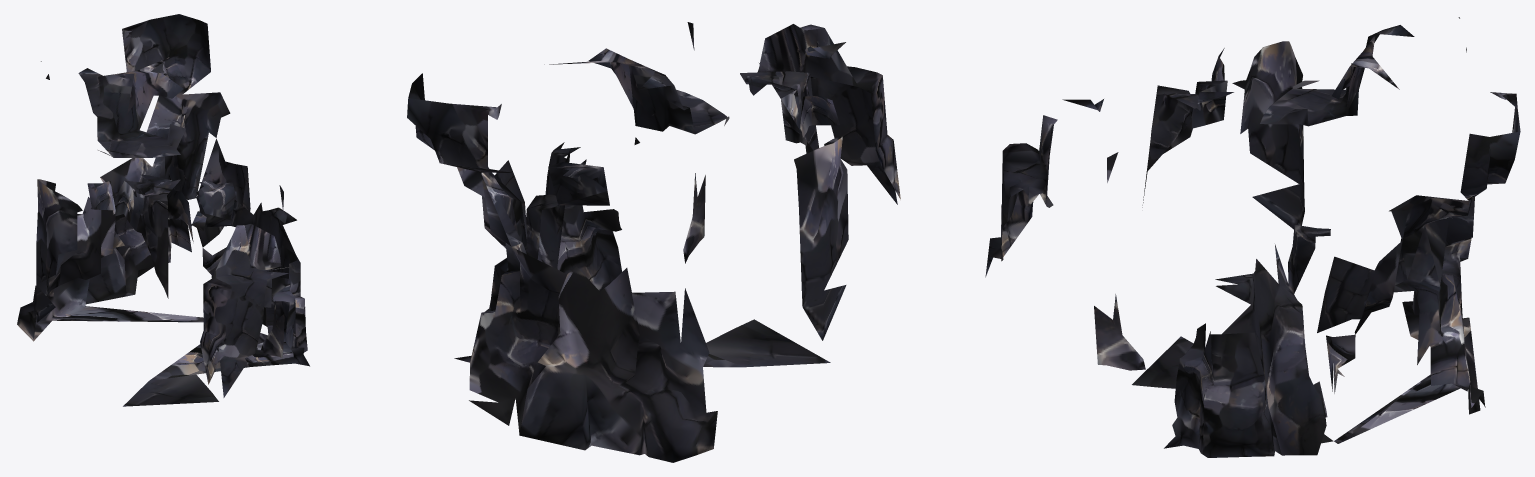
File: RIP0 (3).obj
3 renders of one model, left to right at view 1: azimuth 30°, elevation 25°; view 2: azimuth 150°, elevation 25°; view 3: azimuth 270°, elevation 25°, orthographic. The views are drawn at different scales.
Parts seen in each view (by area): view 1: RIP0; view 2: RIP0; view 3: RIP0.
Part boxes in pixels (x1=…): RIP0: x1=17, y1=14, x2=309, y2=406; RIP0: x1=407, y1=22, x2=900, y2=462; RIP0: x1=985, y1=17, x2=1520, y2=457.
Size of the model in its own units: 0.6635 by 0.6616 by 1.
